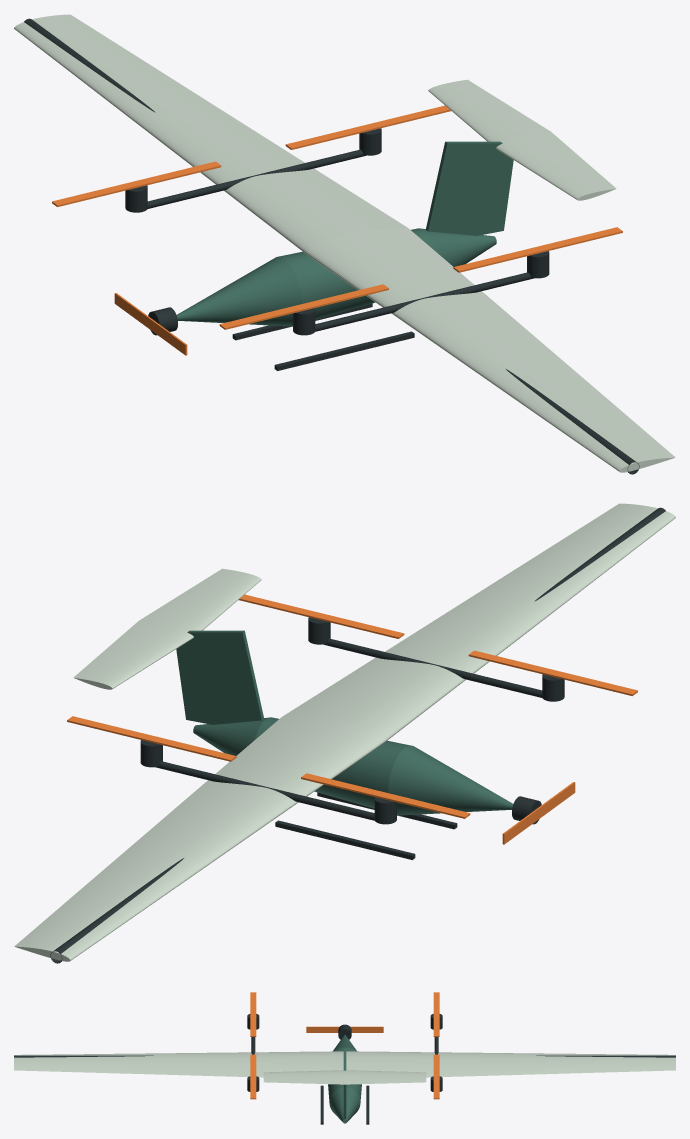
3 views of the same model, one above another, from view 1: azimuth 30°, elevation 25°; view 2: azimuth 150°, elevation 25°; view 3: azimuth 270°, elevation 25° (orthographic). The views are drawn at different scales.
Visible parts, largest first — view 1: wing-1, wing1, fuselage, fin, tail-1, tail1, wing_spar, boom1, boom-1, prop_-1_120.0, prop_-1_700.0, prop_1_120.0 (+3 smaller); view 2: wing1, wing-1, fuselage, fin, tail1, tail-1, wing_spar, boom-1, boom1, prop_1_120.0, prop_1_700.0, prop_-1_120.0 (+3 smaller); view 3: wing-1, wing1, fuselage, tail-1, tail1, wing_spar, cruise_prop, prop_-1_700.0, prop_1_700.0, prop_-1_120.0, prop_1_120.0, fin.
Part boxes in pixels (x1=…): wing-1: x1=305, y1=227, x2=675, y2=472; wing1: x1=14, y1=14, x2=407, y2=252; fuselage: x1=176, y1=228, x2=496, y2=326; fin: x1=425, y1=141, x2=513, y2=235; tail-1: x1=496, y1=131, x2=616, y2=200; tail1: x1=428, y1=79, x2=550, y2=142; wing_spar: x1=24, y1=18, x2=639, y2=474; boom1: x1=147, y1=149, x2=366, y2=208; boom-1: x1=315, y1=272, x2=534, y2=331; prop_-1_120.0: x1=219, y1=284, x2=388, y2=329; prop_-1_700.0: x1=453, y1=227, x2=622, y2=272; prop_1_120.0: x1=52, y1=161, x2=221, y2=206; wing1: x1=14, y1=716, x2=384, y2=961; wing-1: x1=282, y1=503, x2=675, y2=741; fuselage: x1=193, y1=717, x2=513, y2=815; fin: x1=176, y1=630, x2=264, y2=724; tail1: x1=73, y1=620, x2=193, y2=689; tail-1: x1=139, y1=568, x2=261, y2=631; wing_spar: x1=50, y1=507, x2=665, y2=963; boom-1: x1=323, y1=638, x2=542, y2=697; boom1: x1=155, y1=761, x2=374, y2=820; prop_1_120.0: x1=301, y1=773, x2=470, y2=818; prop_1_700.0: x1=67, y1=716, x2=236, y2=761; prop_-1_120.0: x1=468, y1=650, x2=637, y2=695; wing-1: x1=14, y1=1051, x2=343, y2=1077; wing1: x1=346, y1=1051, x2=675, y2=1077; fuselage: x1=328, y1=1035, x2=361, y2=1123; tail-1: x1=263, y1=1070, x2=344, y2=1084; tail1: x1=345, y1=1070, x2=426, y2=1084; wing_spar: x1=14, y1=1055, x2=675, y2=1057; cruise_prop: x1=306, y1=1026, x2=383, y2=1032; prop_-1_700.0: x1=250, y1=1054, x2=256, y2=1099; prop_1_700.0: x1=433, y1=1054, x2=439, y2=1099; prop_-1_120.0: x1=250, y1=992, x2=256, y2=1036; prop_1_120.0: x1=433, y1=992, x2=439, y2=1036; fin: x1=343, y1=1048, x2=346, y2=1118.
Size of the model in its own units: 1023 by 393 by 2600.
